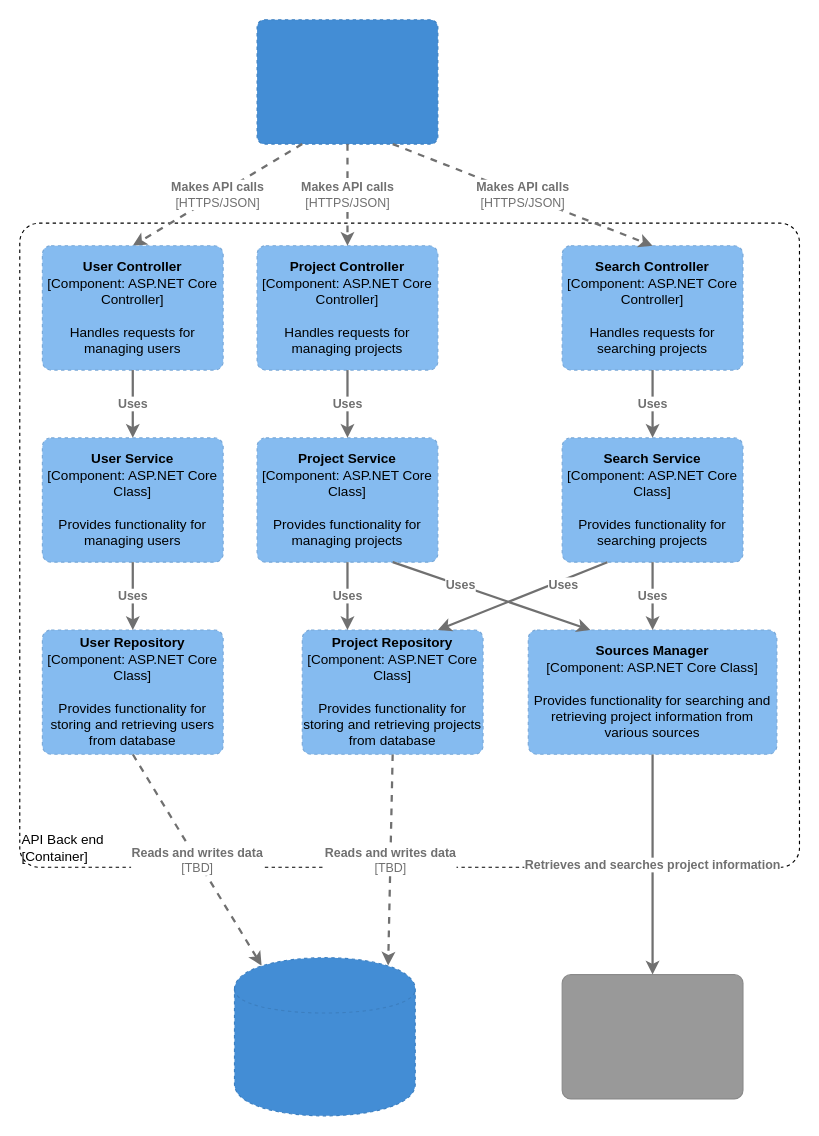
Some shapes in this 819 by 1136 pixel diagram are drawn without their labels. The centre of each missing label's shape, as x and y in pixels:
Database [Container: TBD] Stores and retrieves data: (x=324, y=1036)
Front end [Container: Angular ] The user interface of the system: (x=347, y=81)
Sources [Software System] External sources for projects (GitLab, GitHub, etc.): (x=652, y=1036)
